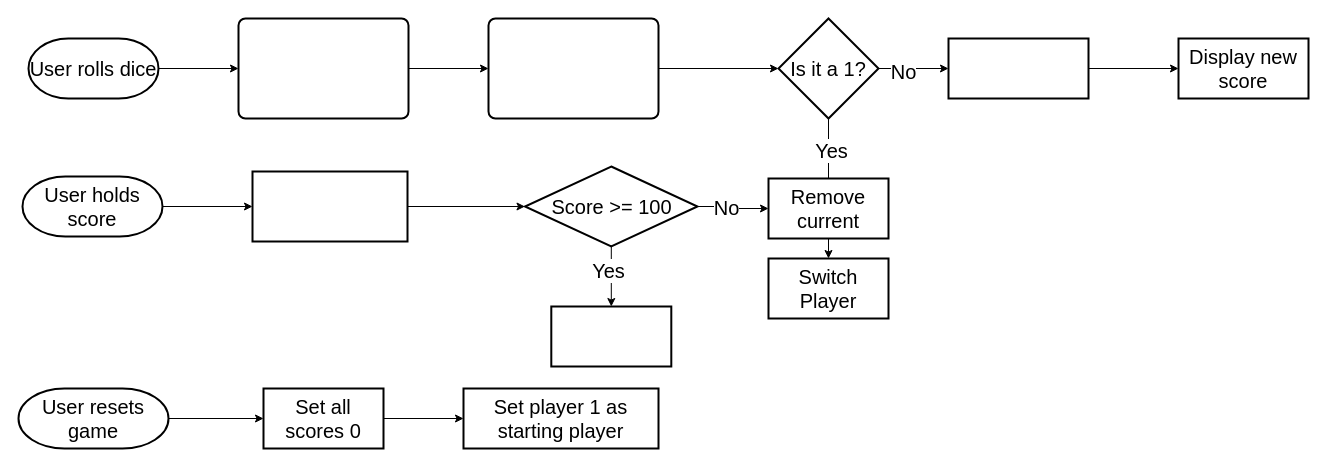
The diagram is 1326 pixels wide and 466 high, and some of its shapes have lost their labels. The box of each missing label's shape, as (x1, y1, x2, y2) in pixels:
Add current score to total score: (251, 170, 408, 242)
Add dice roll to current score: (947, 37, 1089, 99)
Current player wins!: (550, 305, 672, 367)
Display dice roll: (487, 17, 659, 119)
Generate random dice roll (1 - 6): (237, 17, 409, 119)
